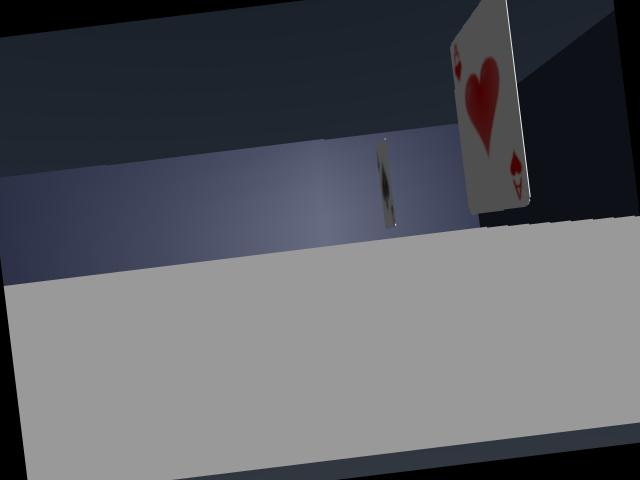club: (376, 139, 395, 228)
heart: (450, 0, 529, 213)
